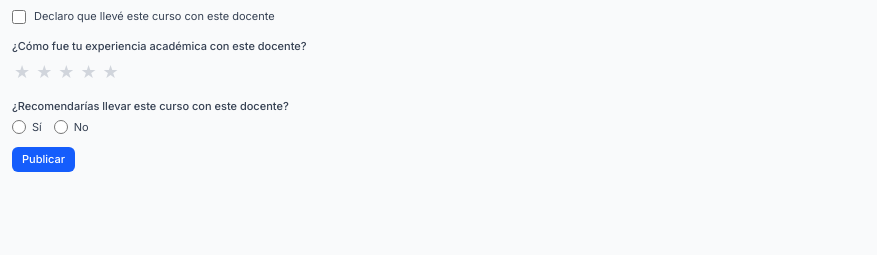
Test: ReviewForm — publicación › sin nada elegido enumera lo que falta y no viaja al servidor
This screenshot has width=877, height=255.
Click the button "Publicar".
click(44, 160)  # box [12,147,75,172]
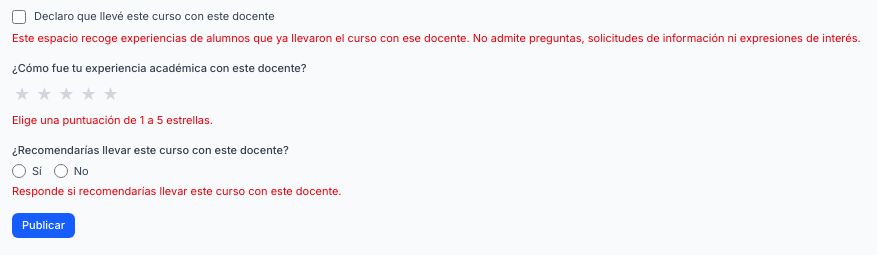
expect the text "Responde si recomendarías llevar este curso con este docente." is shown: met, box [12,184,342,198]
